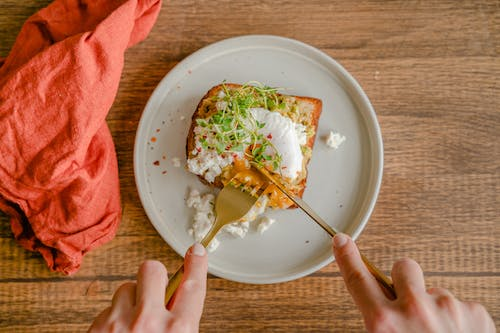knife: (249, 161, 338, 238)
